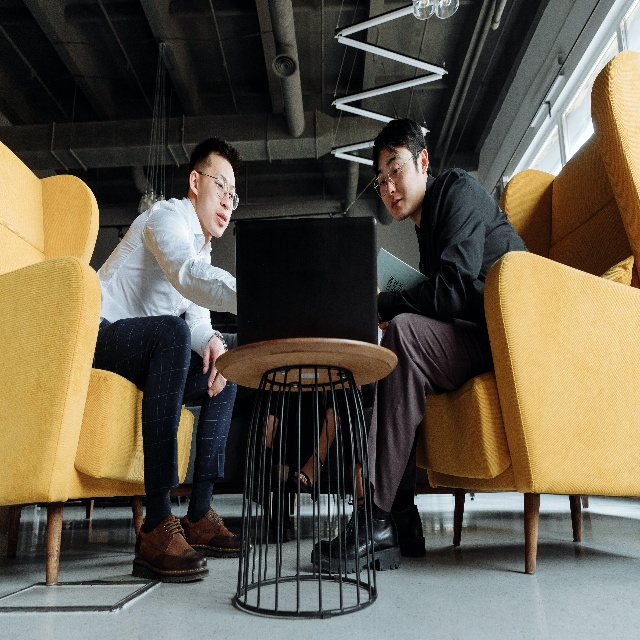Gafas: (373, 150, 421, 198), (196, 171, 239, 212)
Sin_guantes: (201, 337, 229, 398)
